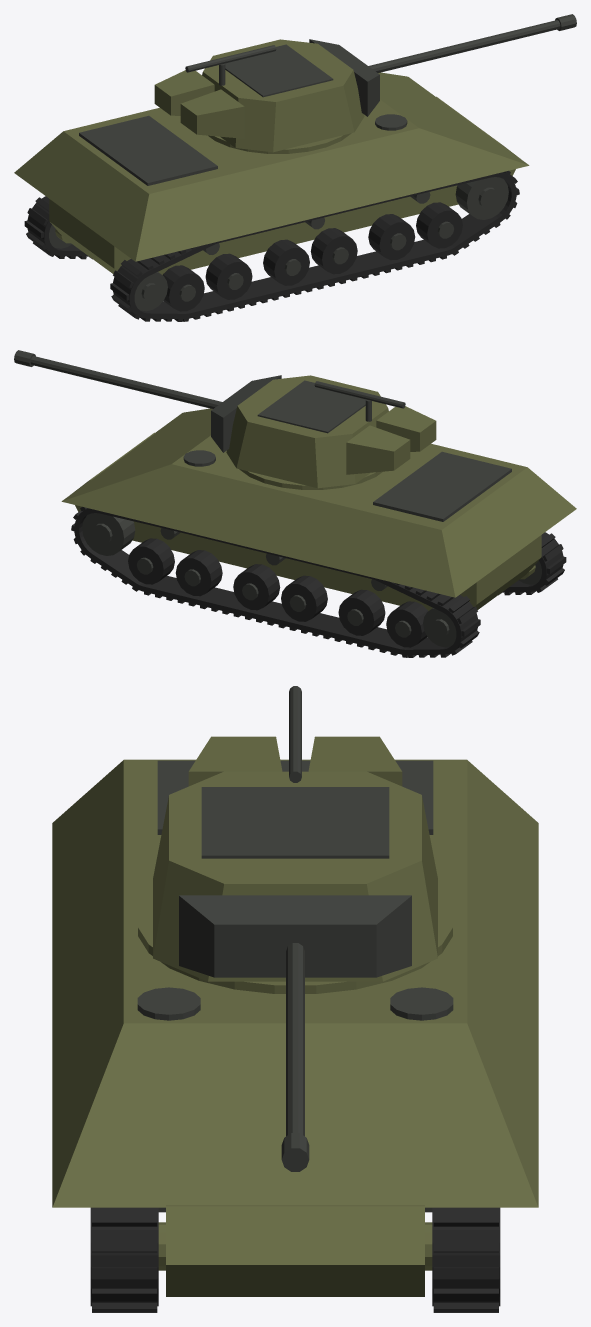
3 renders of one model, top to bottom at view 1: azimuth 30°, elevation 25°; view 2: azimuth 150°, elevation 25°; view 3: azimuth 270°, elevation 25°, orthographic. The views are drawn at different scales.
Size of the model in its own units: 7.11 by 2.8 by 3.
